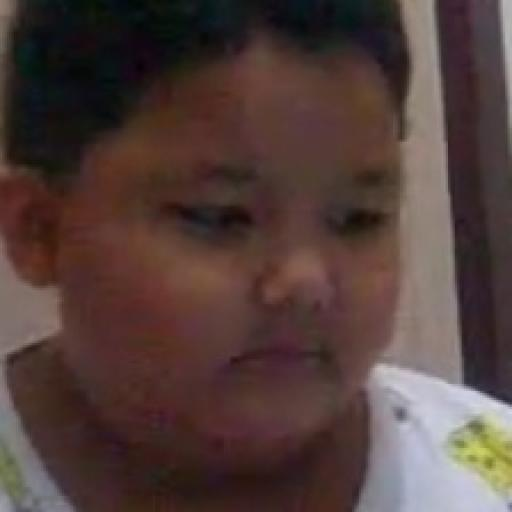Autism: (0, 0, 443, 498)
